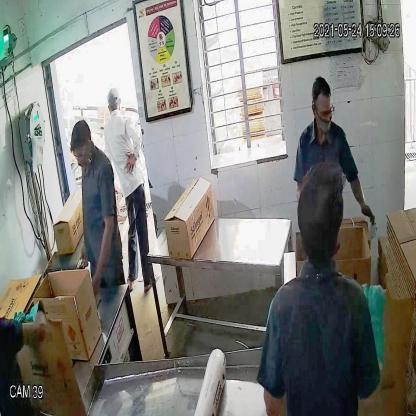goggles: (311, 99, 336, 122)
